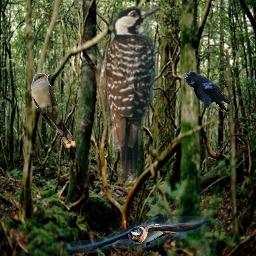Crow: (182, 71, 231, 113)
Cuckoo: (31, 73, 76, 148)
Swallow: (64, 216, 207, 253)
Woodpecker: (83, 6, 164, 192)
